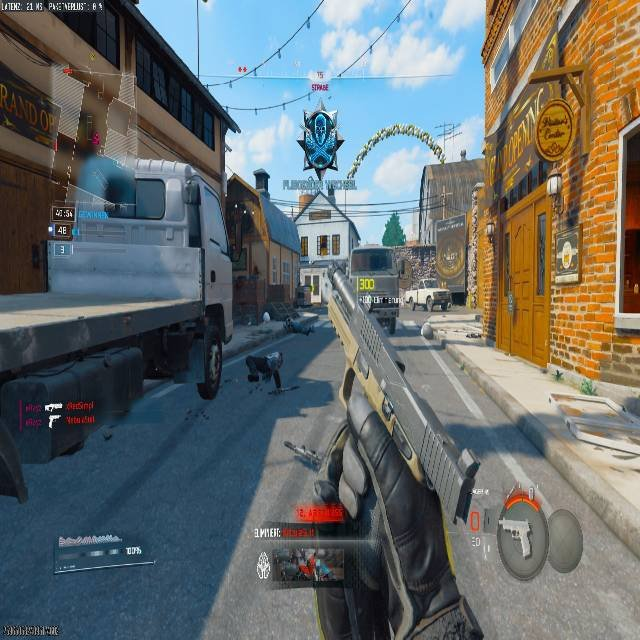player: (298, 107, 344, 186), (370, 293, 399, 337), (426, 294, 433, 309)
